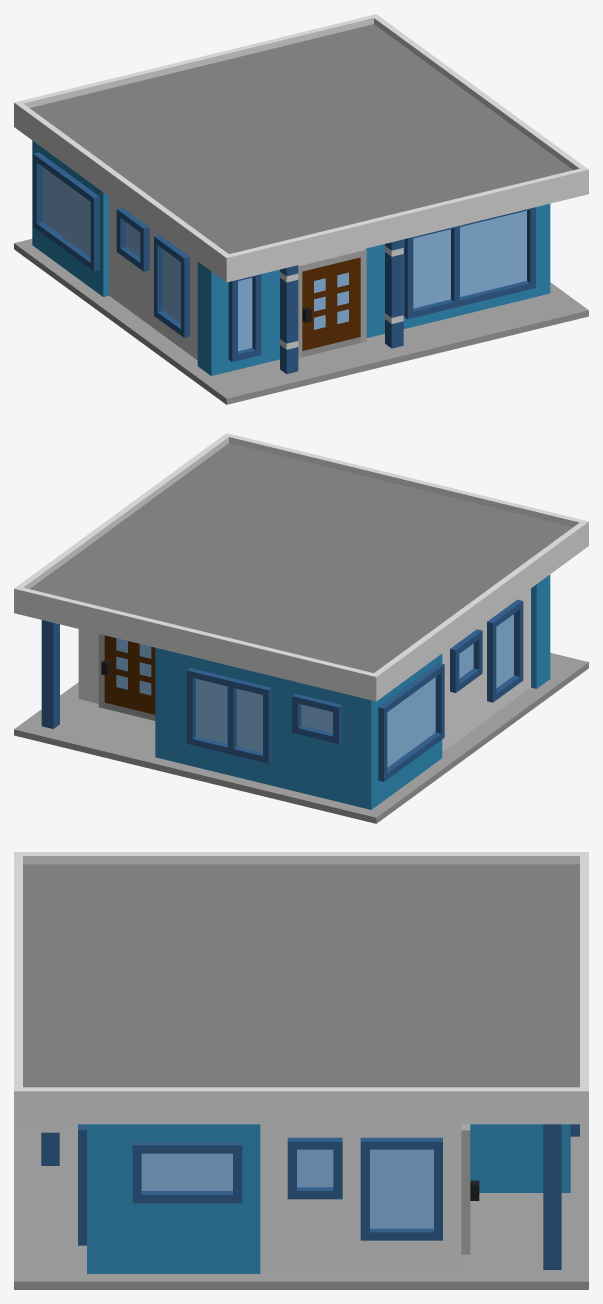
The model's file is obj_house1.obj.
3 views of the same model, one above another, from view 1: azimuth 30°, elevation 25°; view 2: azimuth 150°, elevation 25°; view 3: azimuth 270°, elevation 25° (orthographic). The views are drawn at different scales.
Size of the model in its own units: 6.2 by 2.4 by 6.3.
1 material, 1 textured.
